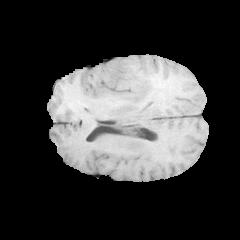glioma: (103, 60, 157, 107)
